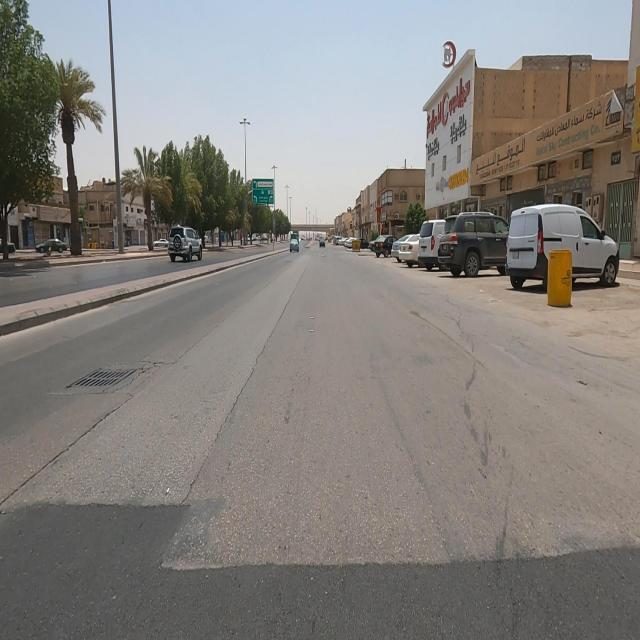debris: (483, 74, 640, 194)
